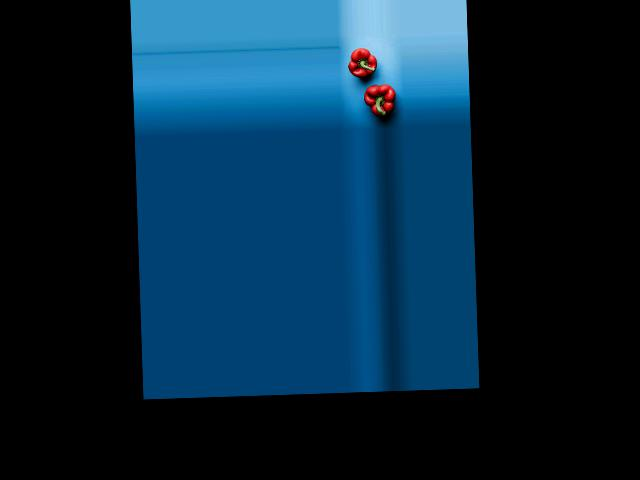bell_pepper: (359, 77, 395, 120)
